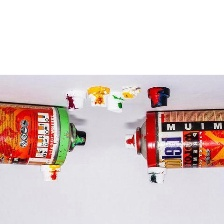aerosol_cans: (119, 104, 223, 175), (0, 99, 91, 170)
